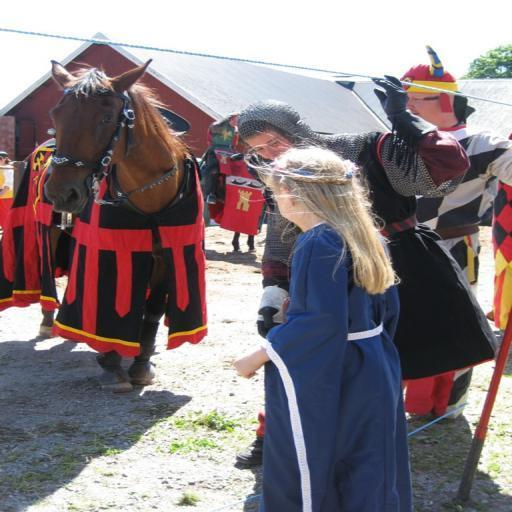horse: (24, 57, 196, 391)
